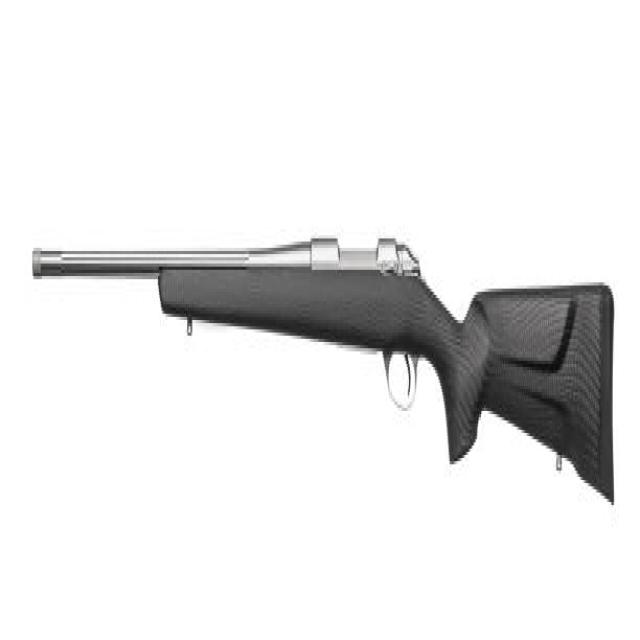rifle: (30, 228, 622, 523)
